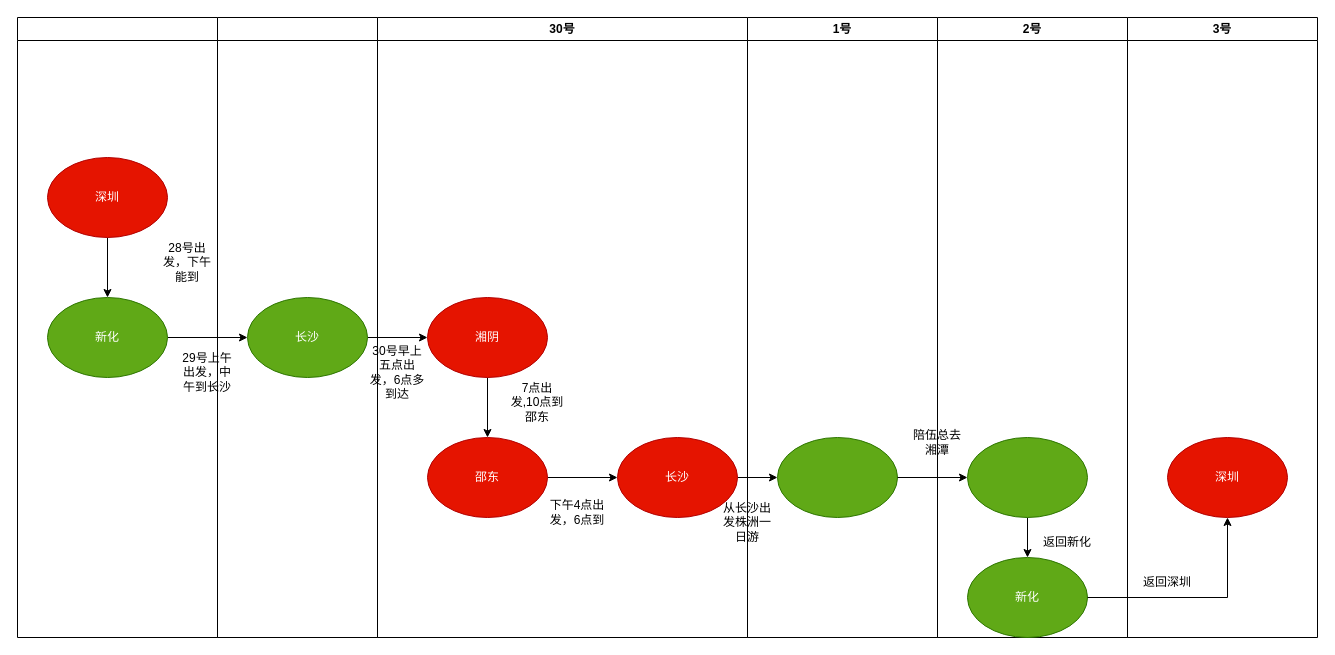
Some shapes in this 1335 by 655 pixel diagram are drawn without their labels. Here are the shapes that lost their labels. From the top down, the centre of each, then its label:
At [117,327]: "28号".
At [297,327]: "29号".
At [837,477]: "株洲".
At [1027,477]: "湘潭".
